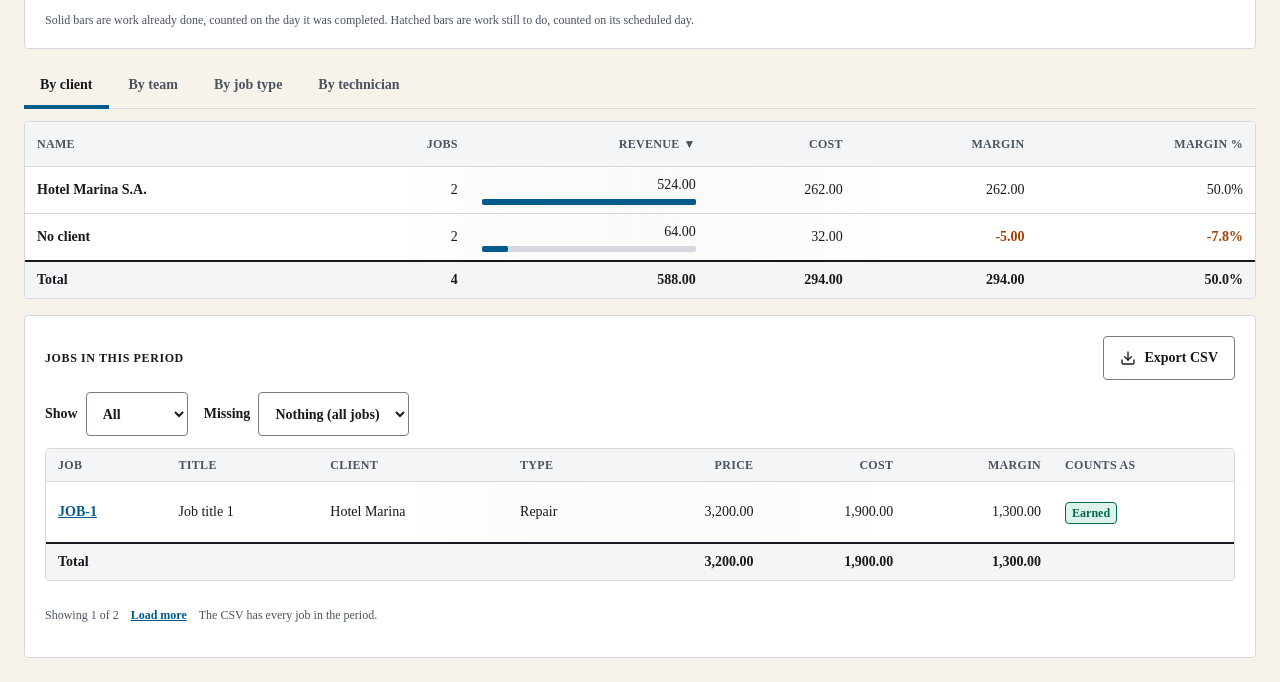
Test: jobs in this period › load more asks for the next offset and appends
(page scrolled)
Expected: the link "JOB-1" is shown, [58,504,97,519]
Click the button "Load more": (159, 615) [131,593,187,637]
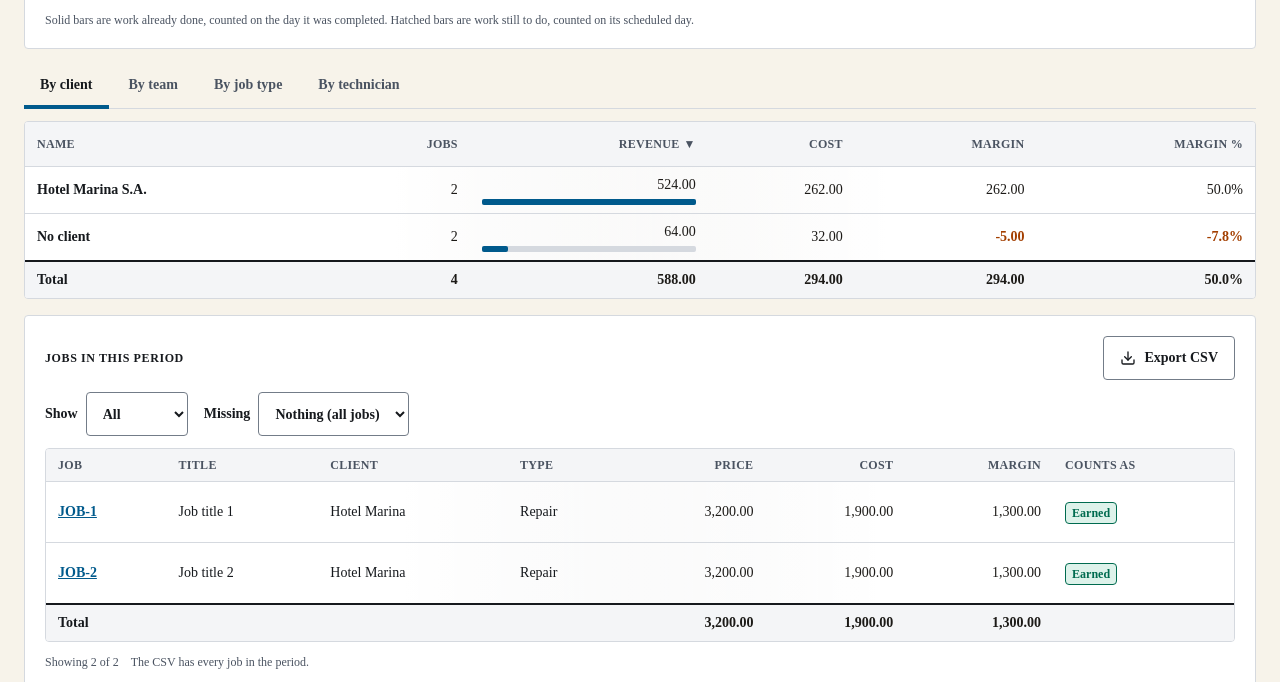
Expected: the link "JOB-2" is shown, [58,565,97,580]
Expected: the button "Load more" is gone
Expected: the text "Showing 2 of 2" is shown, [45,654,119,670]
